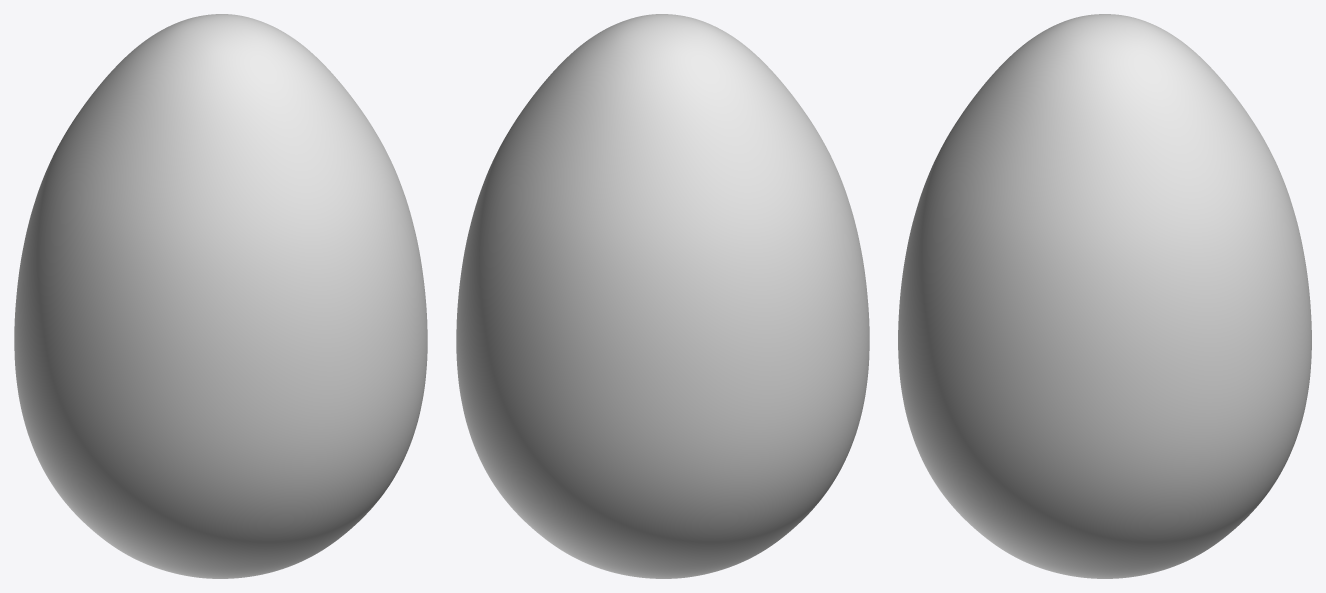
The model's file is egg.glb.
3 views of the same model, side by side, from view 1: azimuth 30°, elevation 25°; view 2: azimuth 150°, elevation 25°; view 3: azimuth 270°, elevation 25° (orthographic).
Parts seen in each view (by area): view 1: Cylinder001; view 2: Cylinder001; view 3: Cylinder001.
Part boxes in pixels (box(x1,y1,x2,y2)): Cylinder001: box(14, 14, 427, 578); Cylinder001: box(456, 14, 869, 578); Cylinder001: box(898, 14, 1311, 578).
Bounding box in the file's own units: 0.3995 × 0.5687 × 0.3995.
1 material, 1 textured.
